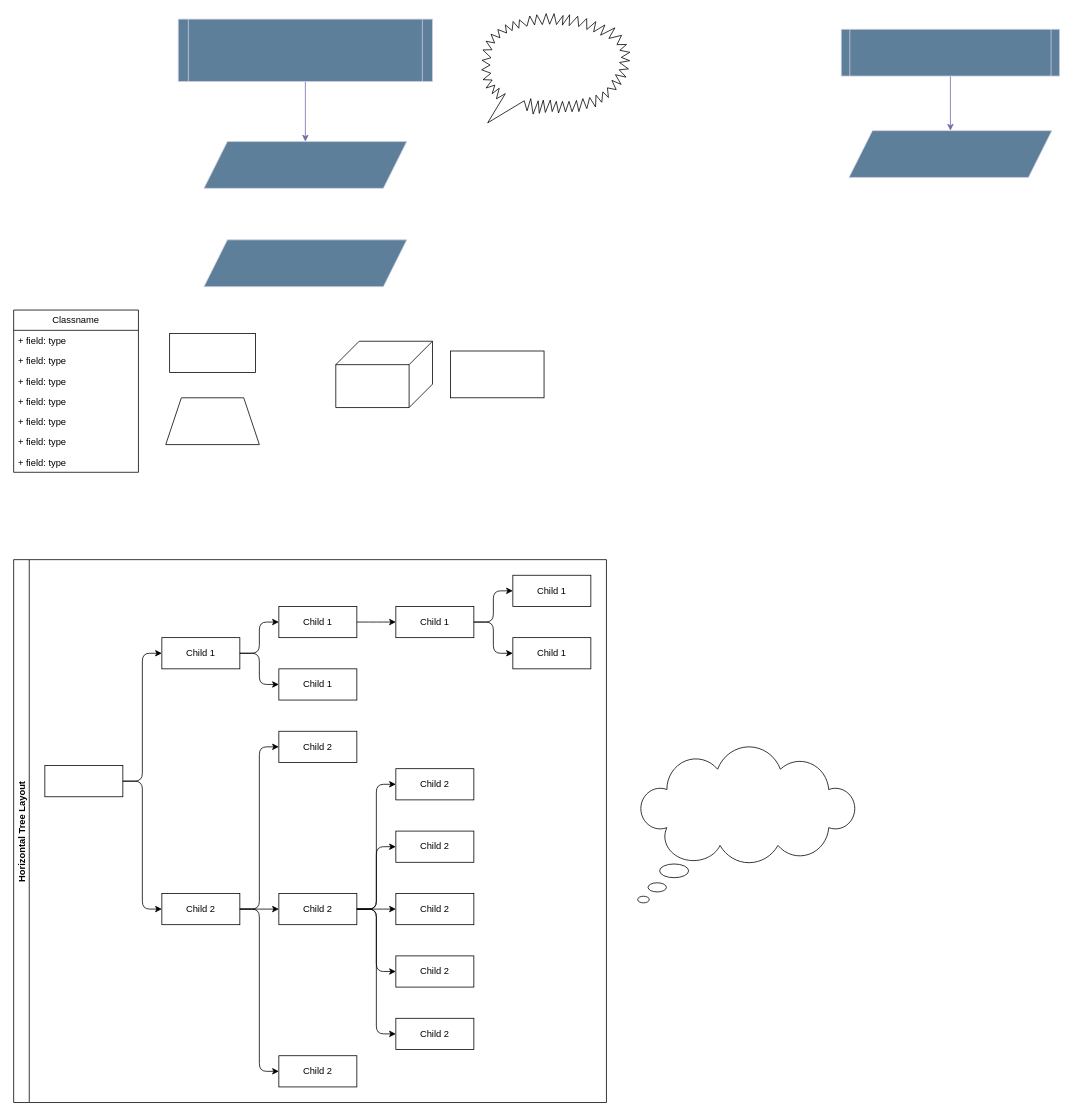
This 1073x1116 diagram has some shape labels left out. Here are the shapes that lost their labels. From the top down, the centre of each, then its label:
the point at 212,352: Object
the point at 384,374: Block
the point at 83,781: Root
